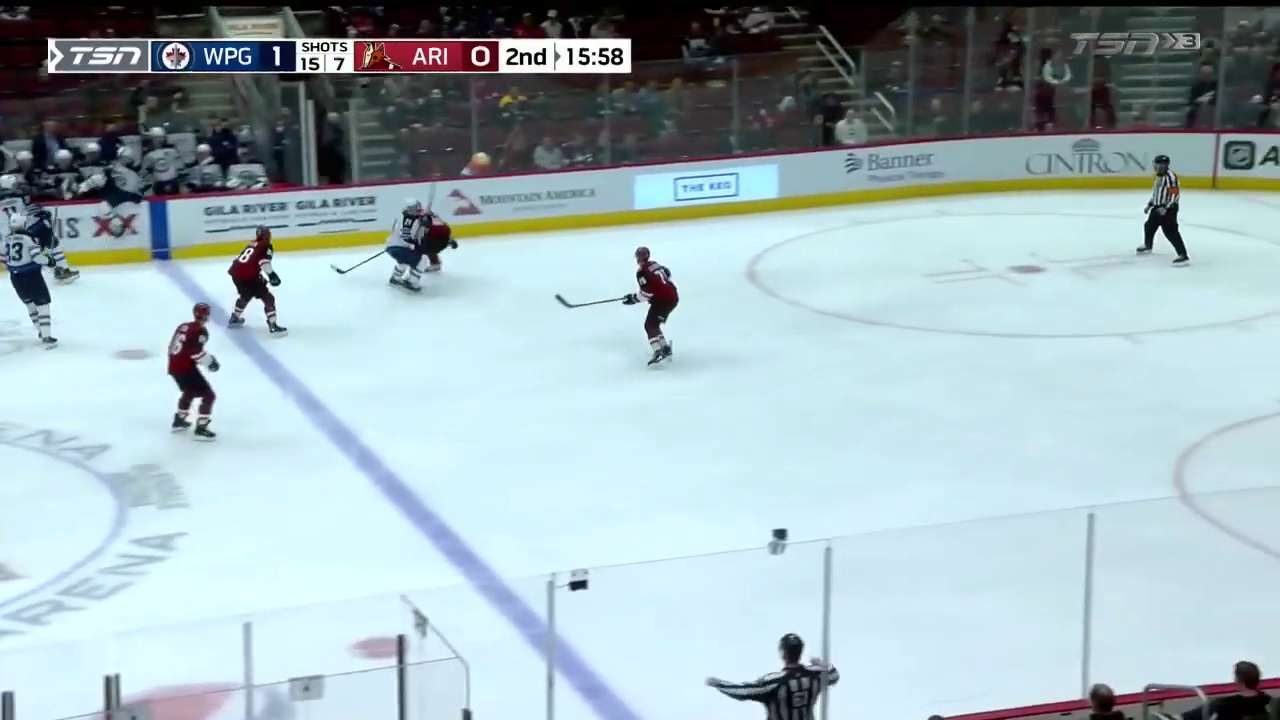hockeyplayer: (1, 175, 79, 285), (166, 302, 220, 442), (5, 212, 57, 350), (226, 225, 289, 338), (623, 246, 680, 370), (386, 197, 433, 294), (406, 201, 451, 273)
referee: (706, 634, 840, 720), (1136, 155, 1189, 268)
